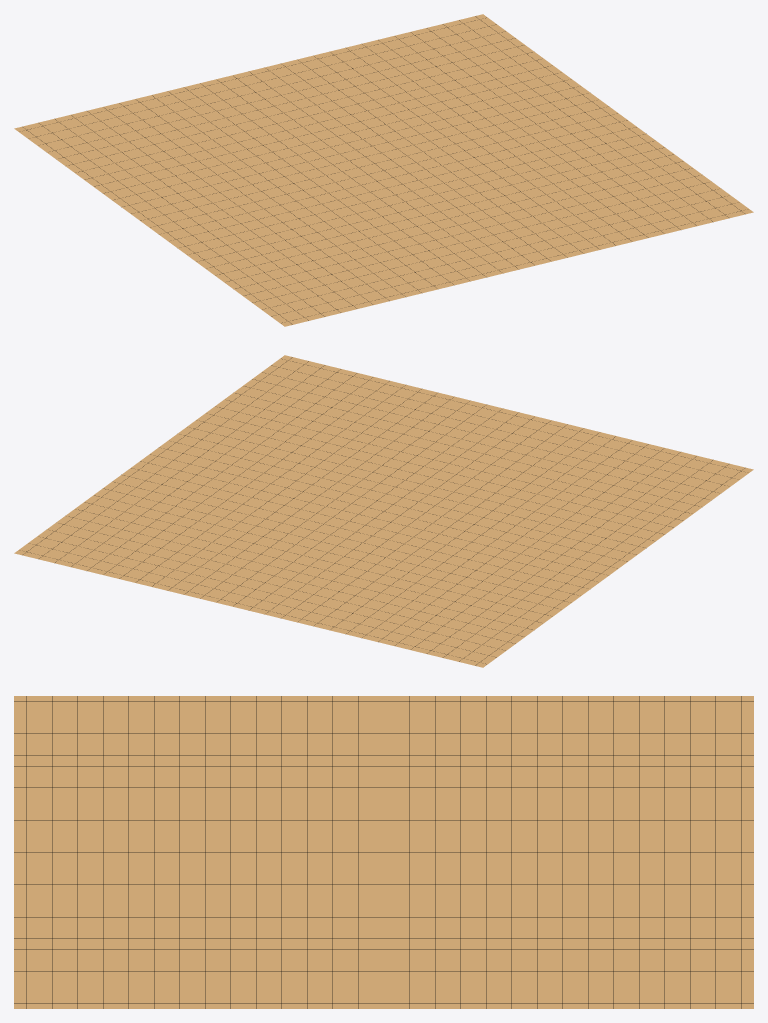
File: floorbeige.fbx
The picture shows the model from 3 angles, top to bottom: view 1: azimuth 30°, elevation 25°; view 2: azimuth 150°, elevation 25°; view 3: azimuth 270°, elevation 25°; orthographic projection. The views are drawn at different scales.
Parts seen in each view (by area): view 1: chess29; view 2: chess29; view 3: chess29.
Boxes of the visible parts, box(x1,y1,x2,y2) form: chess29: box(14, 14, 753, 326); chess29: box(14, 355, 753, 667); chess29: box(14, 696, 753, 1008).
Size of the model in its own units: 5800 by 0.00189 by 5800.
